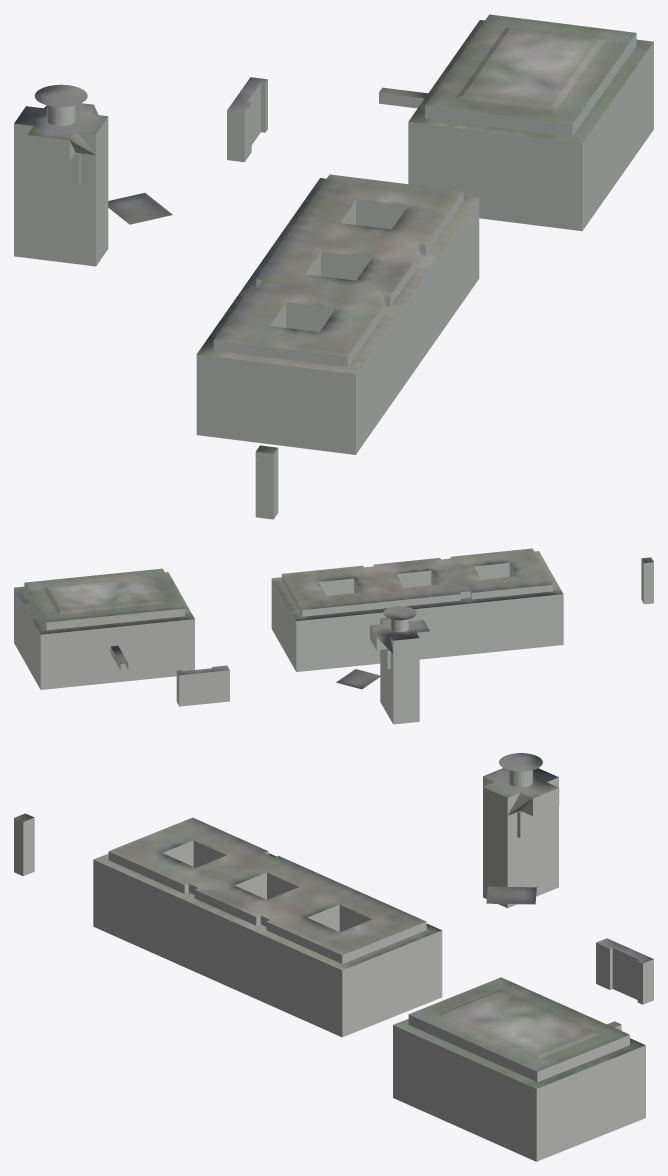
File: LSGG_-1_-3.glb
3 renders of one model, top to bottom at view 1: azimuth 30°, elevation 25°; view 2: azimuth 150°, elevation 25°; view 3: azimuth 270°, elevation 25°, orthographic. The views are drawn at different scales.
Parts seen in each view (by area): view 1: building_4d318acaf0a35174, building_54f9de113f116c01, building_6beac84bffba1b6b, building_4f0d381a8efd5714; view 2: building_54f9de113f116c01, building_4d318acaf0a35174, building_6beac84bffba1b6b, building_4f0d381a8efd5714; view 3: building_4d318acaf0a35174, building_54f9de113f116c01, building_6beac84bffba1b6b, building_4f0d381a8efd5714.
Part boxes in pixels (left/top/right/bottom): building_4d318acaf0a35174: left=14, top=33, right=653, bottom=266; building_54f9de113f116c01: left=196, top=192, right=479, bottom=519; building_6beac84bffba1b6b: left=197, top=174, right=478, bottom=453; building_4f0d381a8efd5714: left=14, top=14, right=653, bottom=224; building_54f9de113f116c01: left=271, top=557, right=653, bottom=671; building_4d318acaf0a35174: left=14, top=583, right=430, bottom=724; building_6beac84bffba1b6b: left=272, top=548, right=653, bottom=620; building_4f0d381a8efd5714: left=14, top=568, right=429, bottom=688; building_4d318acaf0a35174: left=393, top=770, right=653, bottom=1161; building_54f9de113f116c01: left=14, top=817, right=442, bottom=1037; building_6beac84bffba1b6b: left=14, top=813, right=441, bottom=970; building_4f0d381a8efd5714: left=393, top=753, right=653, bottom=1088.
Size of the model in its own units: 207 by 52.32 by 195.
Materials: 2 (1 with a texture image).
